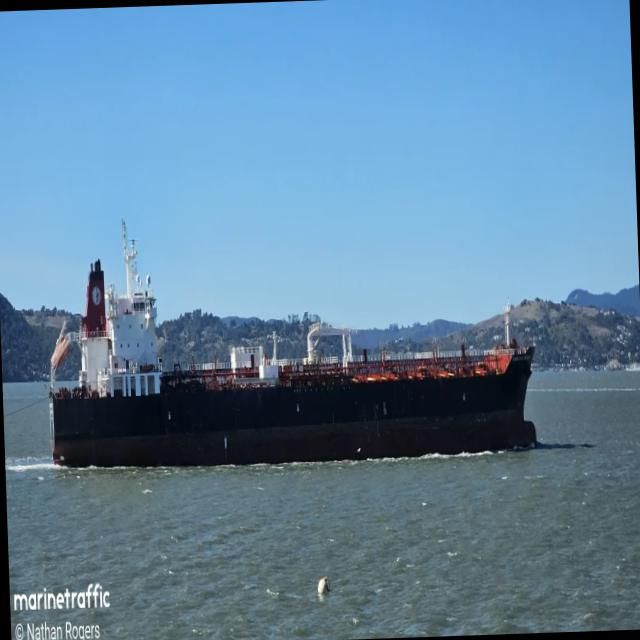Tanker: (49, 263, 535, 466)
